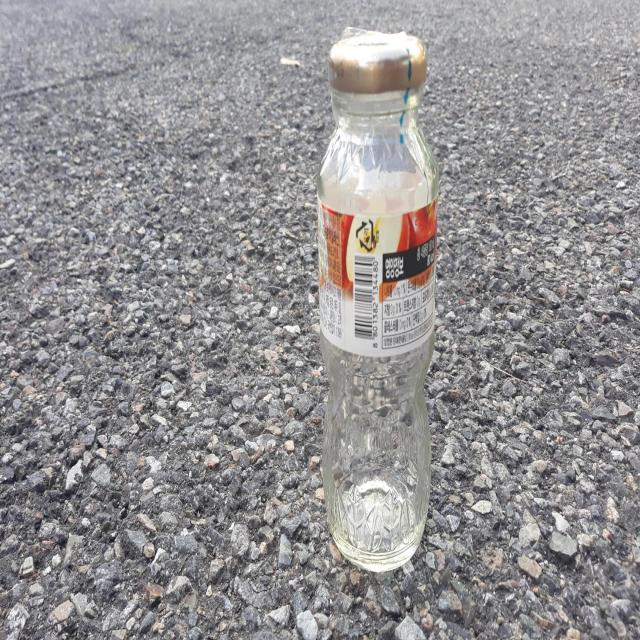glass: (317, 27, 439, 573)
